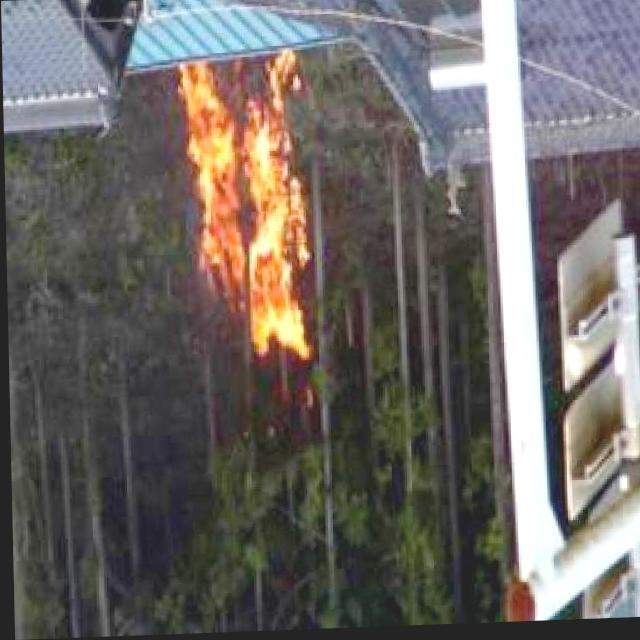Fire: (177, 43, 327, 364)
